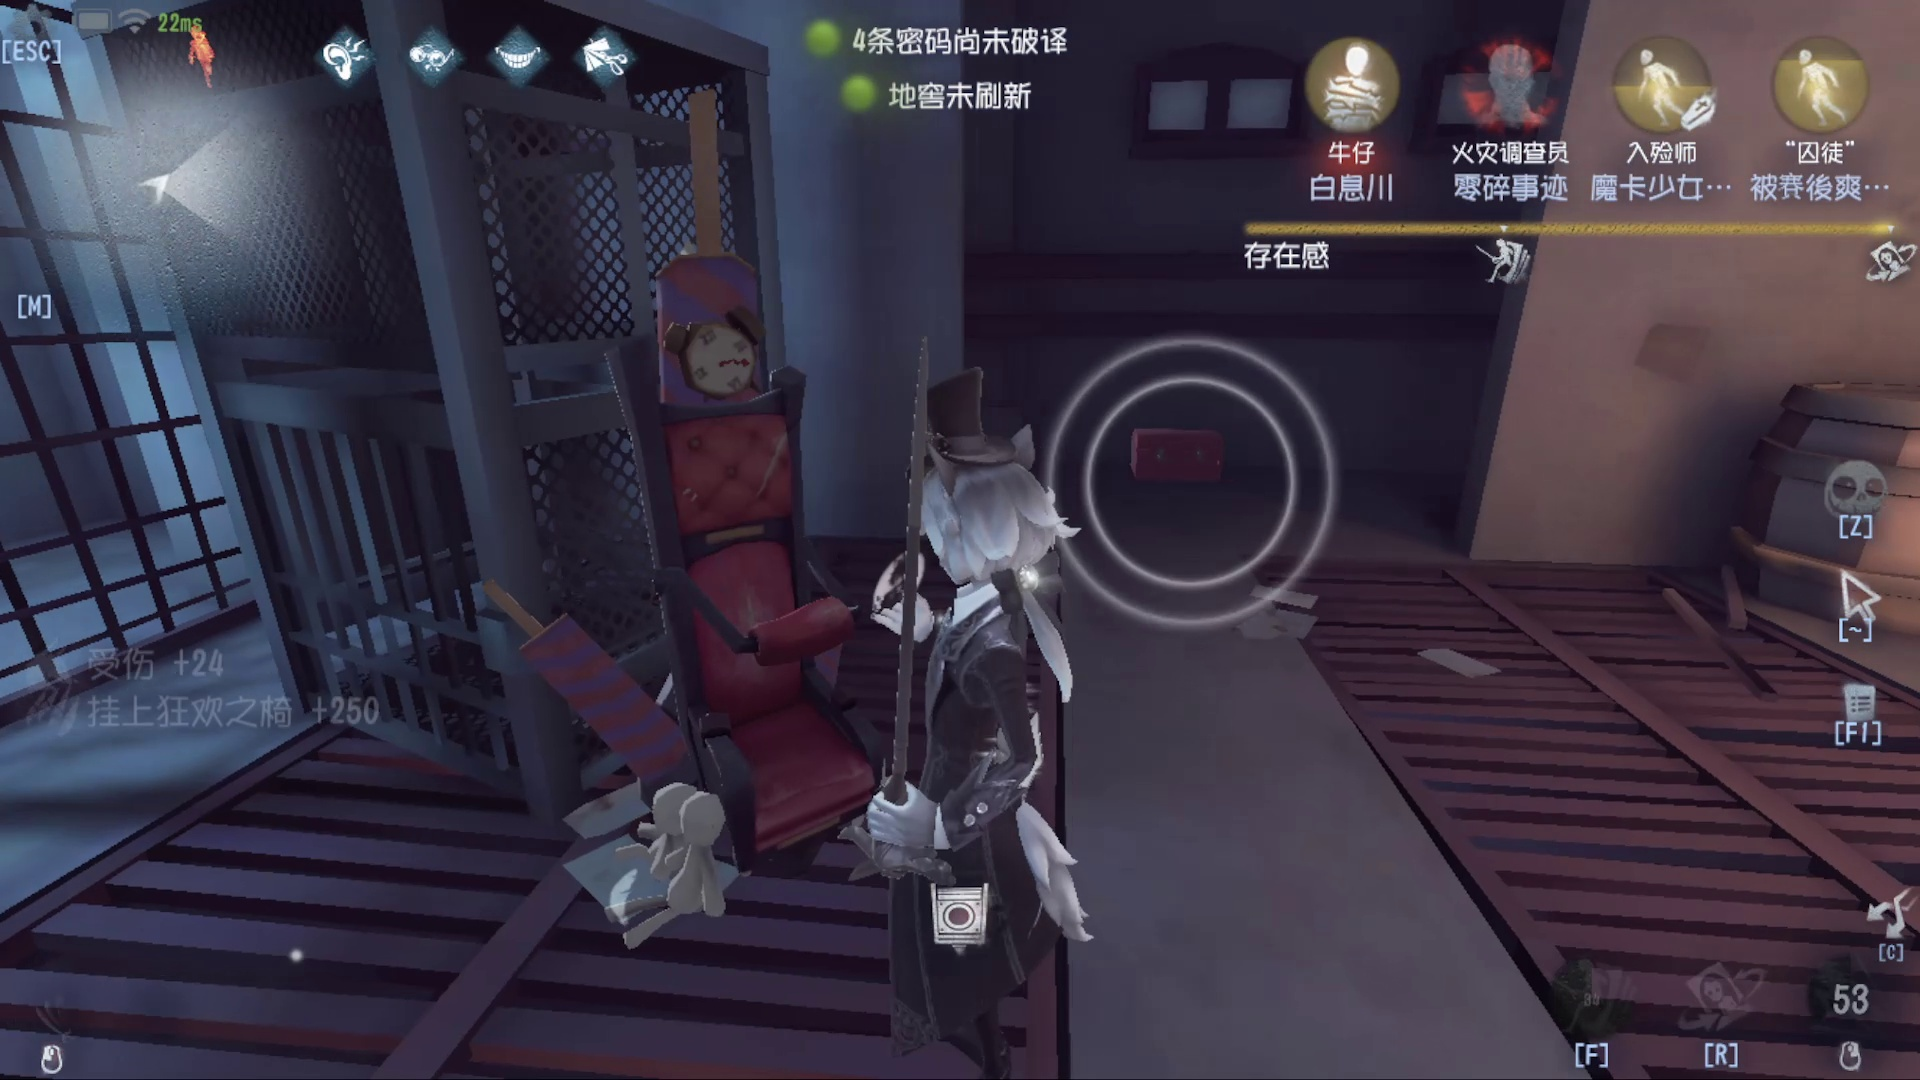狂欢之椅: (597, 191, 894, 868)
